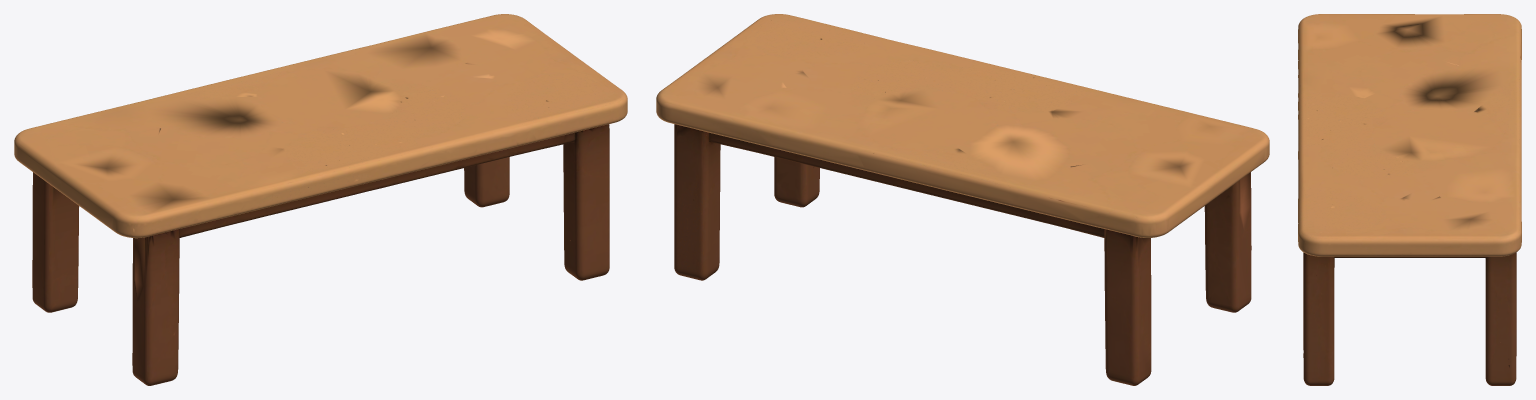
The model's file is desk.glb.
3 views of the same model, side by side, from view 1: azimuth 30°, elevation 25°; view 2: azimuth 150°, elevation 25°; view 3: azimuth 270°, elevation 25° (orthographic). The views are drawn at different scales.
Visible parts, largest first — view 1: node_0; view 2: node_0; view 3: node_0.
Boxes of the visible parts, x1,y1,x2,y2 form: node_0: (14, 14, 627, 385); node_0: (656, 14, 1269, 385); node_0: (1298, 14, 1521, 385).
Size of the model in its own units: 1.09 by 0.3583 by 0.4546.
1 material, 1 textured.
